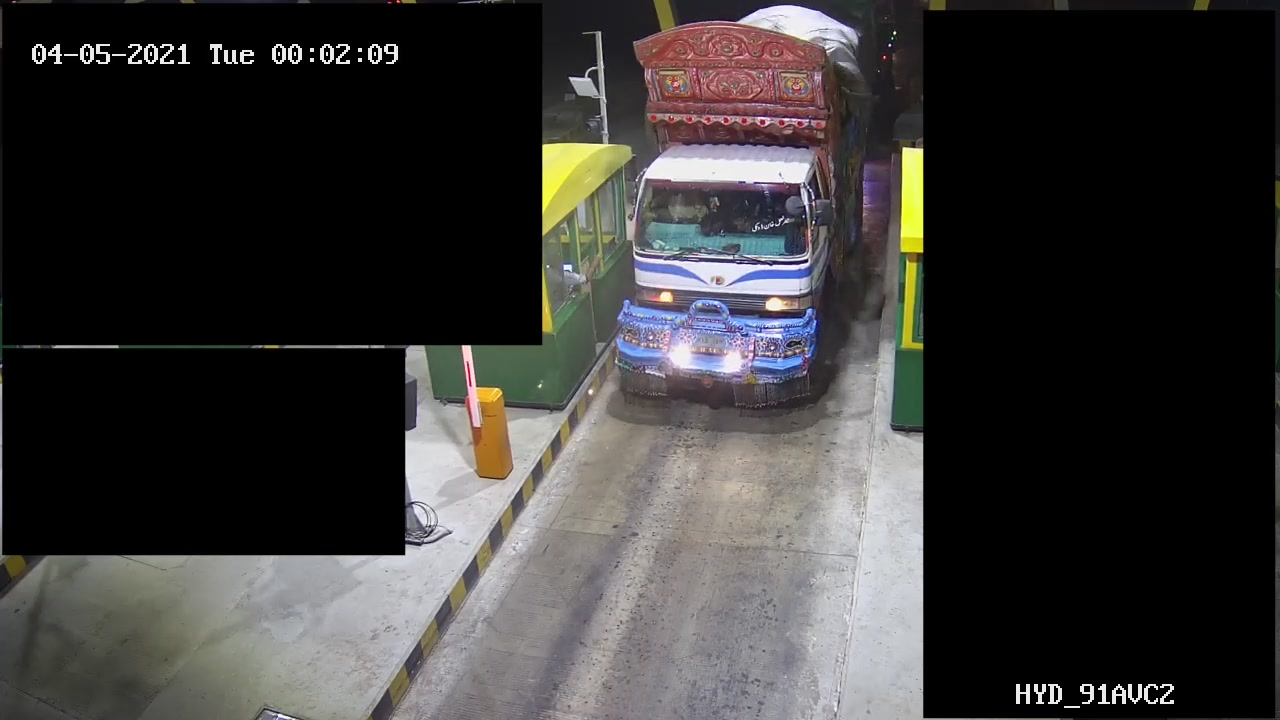F5: (612, 1, 878, 409)
